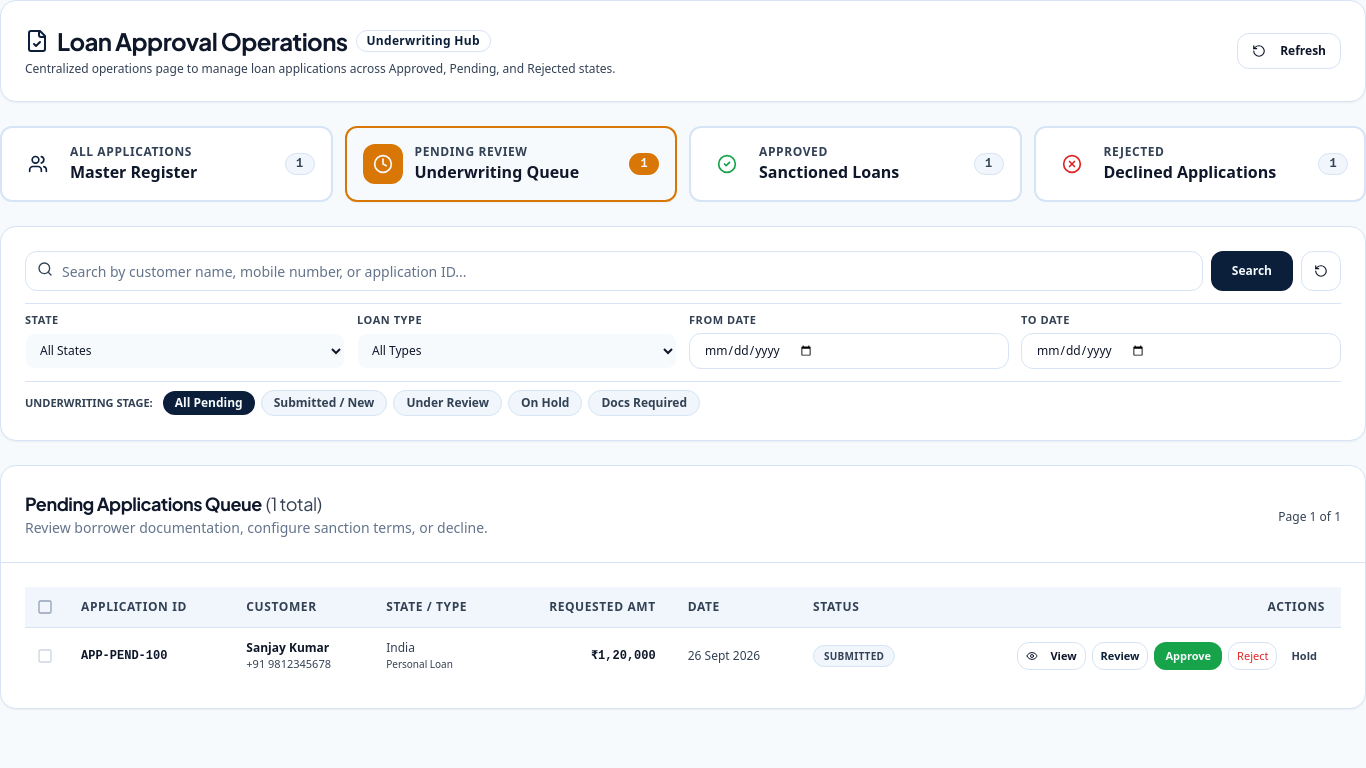
FINAL CHANGE 4/5: Loan Approval Operations & Documents Hub › 1. Dedicated Admin Loan Approval Operations Page (/admin/loan-approval) › opens Approve Modal and verifies auto-calculated EMI + manual override capability
The width and height of the screenshot is (1366, 768).
Expected: the text "APP-PEND-100" is shown, left=65, top=627, right=230, bottom=684
// Click Approve button
Step 1. Click the button "Approve" → (1188, 656), box left=1154, top=642, right=1222, bottom=670
(page scrolled)
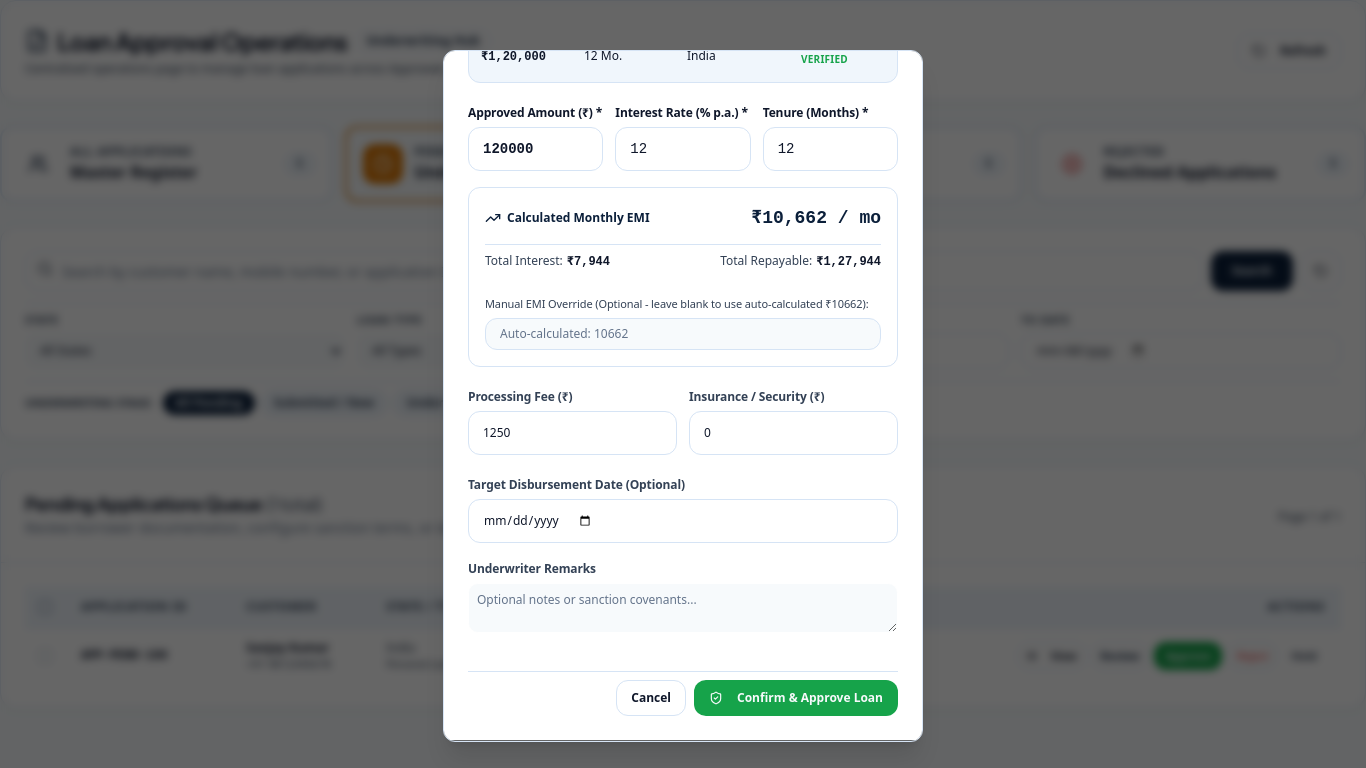
Result: the text "Calculated Monthly EMI" is shown at left=485, top=210, right=650, bottom=226
Result: the text "Manual EMI Override" is shown at left=485, top=296, right=832, bottom=311
Result: the button "Confirm & Approve Loan" is shown at left=694, top=680, right=898, bottom=716
